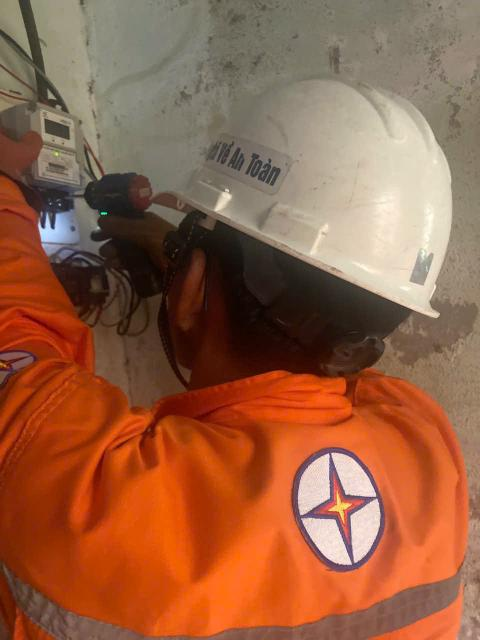gloves: (103, 190, 187, 291), (0, 114, 67, 199)
helmet: (184, 47, 450, 323)
